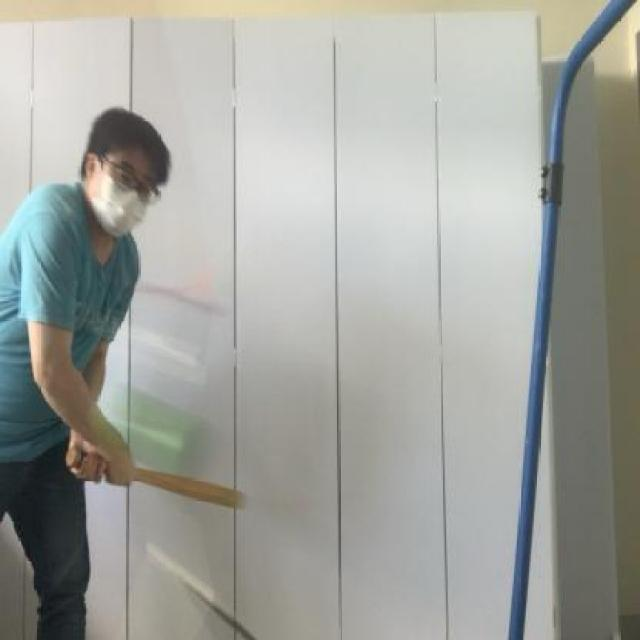baseball: (80, 366, 222, 485)
